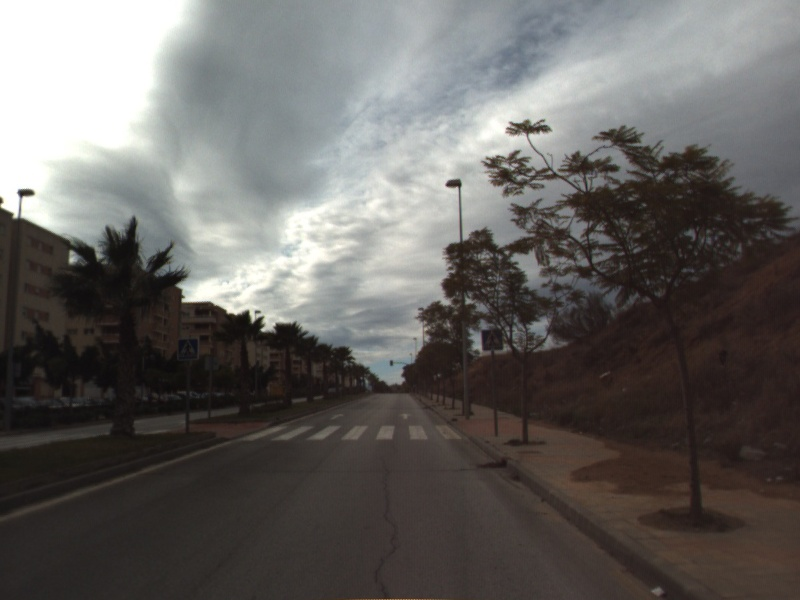STRAIGHT: (328, 411, 346, 421), (397, 411, 413, 421)
